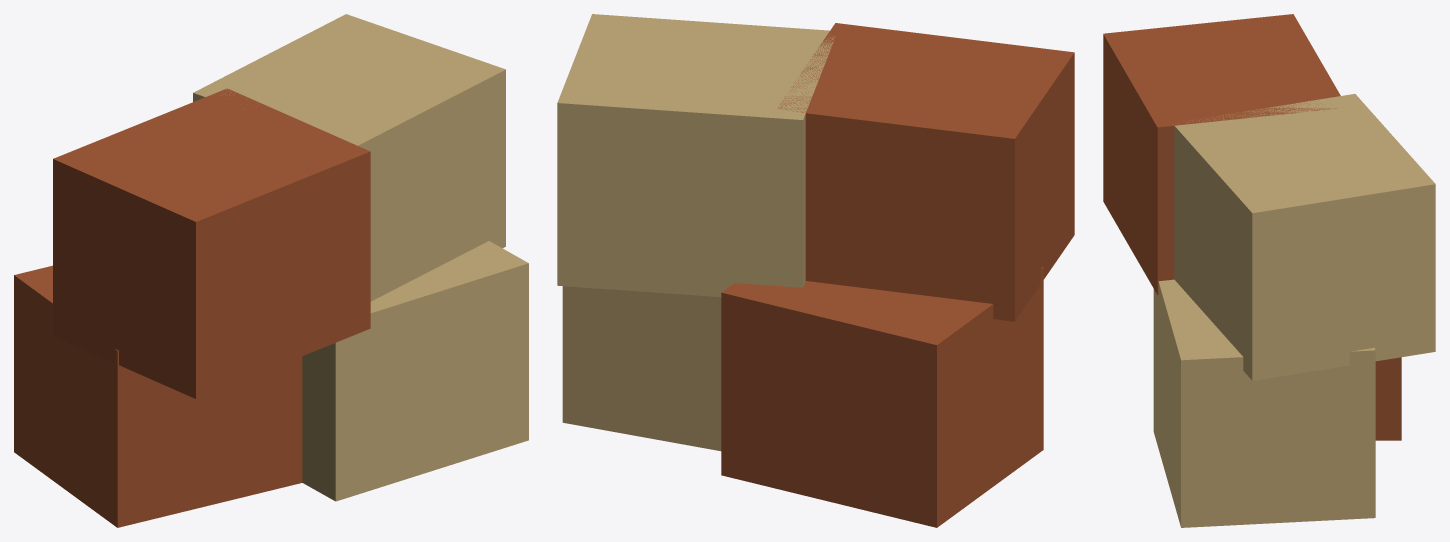
File: camp_supply.glb
The picture shows the model from 3 angles, left to right: view 1: azimuth 30°, elevation 25°; view 2: azimuth 150°, elevation 25°; view 3: azimuth 270°, elevation 25°; orthographic projection. The views are drawn at different scales.
Visible parts, largest first — view 1: crate_2, crate_3, crate_1, crate_0; view 2: crate_2, crate_3, crate_0, crate_1; view 3: crate_3, crate_1, crate_2, crate_0.
Part boxes in pixels (x1,y1,x2,y2): crate_2: (53, 88, 370, 398); crate_3: (193, 14, 505, 301); crate_1: (302, 241, 528, 501); crate_0: (14, 265, 302, 527); crate_2: (778, 23, 1074, 321); crate_3: (557, 14, 835, 296); crate_0: (721, 267, 1043, 527); crate_1: (562, 286, 721, 451); crate_3: (1174, 94, 1435, 380); crate_1: (1153, 279, 1375, 527); crate_2: (1103, 14, 1340, 294); crate_0: (1375, 357, 1401, 440).
Size of what is drawn, in the model's own units: 2.17 by 1.63 by 1.53.
